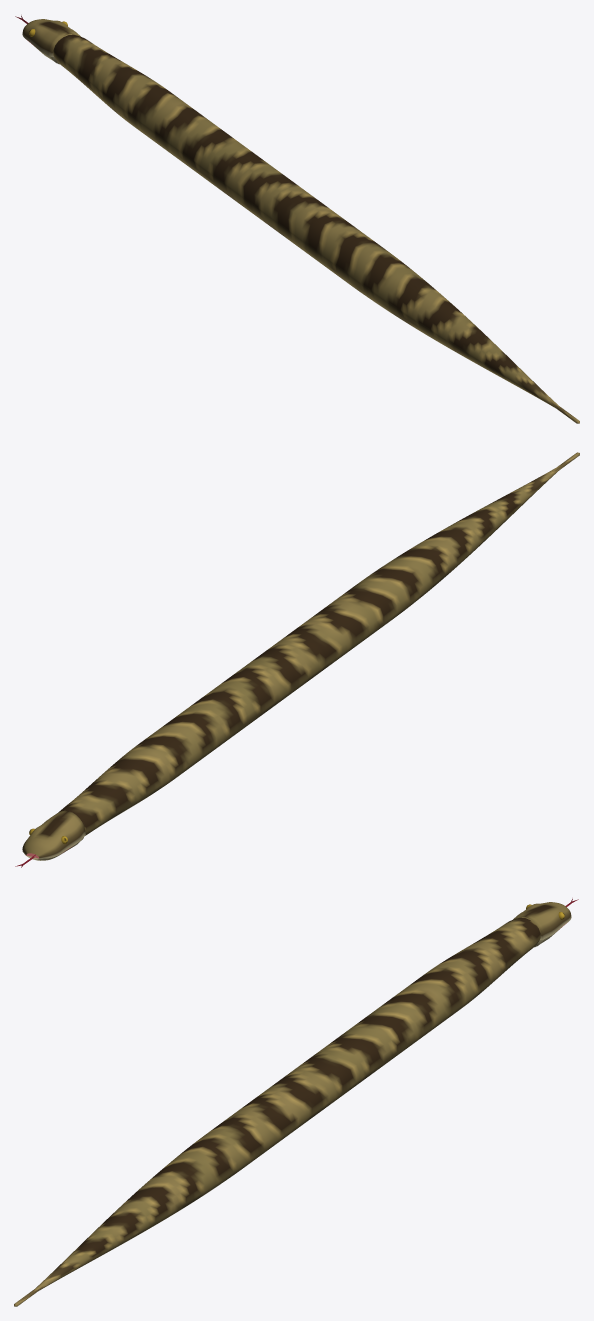
The model's file is snake.glb.
The picture shows the model from 3 angles, top to bottom: view 1: azimuth 30°, elevation 25°; view 2: azimuth 150°, elevation 25°; view 3: azimuth 330°, elevation 25°; orthographic projection.
Visible parts, largest first — view 1: snake; view 2: snake; view 3: snake.
Boxes of the visible parts, left/top/right/bottom form: snake: left=22, top=19, right=579, bottom=423; snake: left=22, top=452, right=579, bottom=858; snake: left=14, top=902, right=571, bottom=1306.
Size of the model in its own units: 0.1914 by 0.1575 by 3.96.
